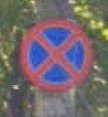oprirea_interzisa: (18, 20, 93, 94)
